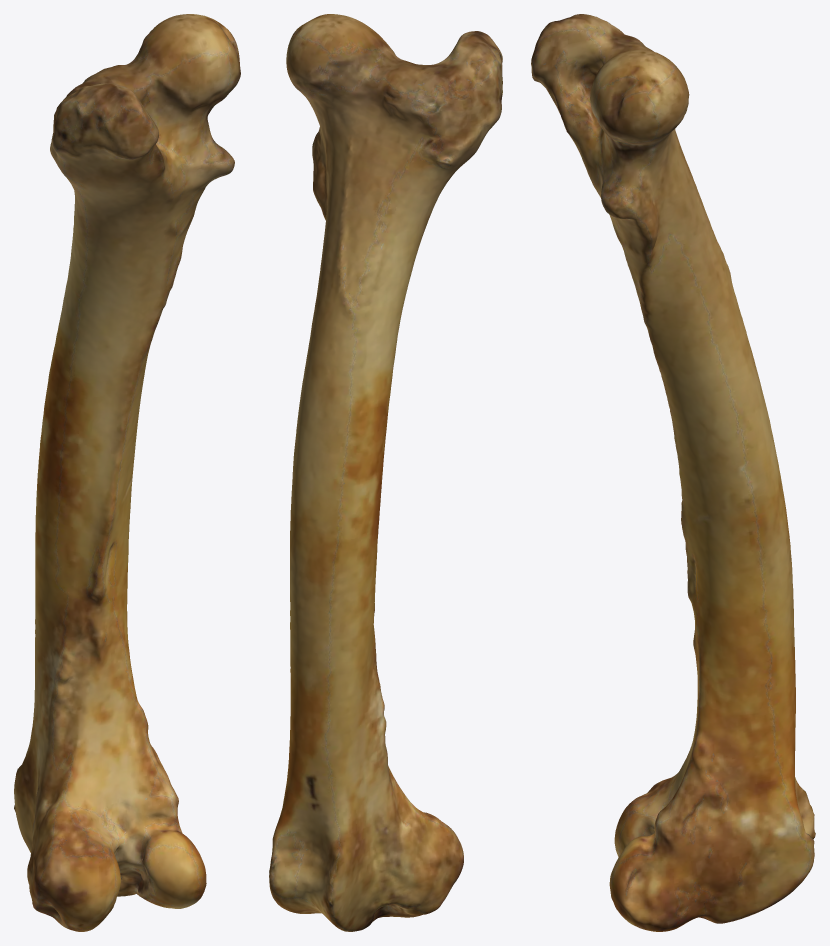
The model's file is femur.glb.
3 views of the same model, side by side, from view 1: azimuth 30°, elevation 25°; view 2: azimuth 150°, elevation 25°; view 3: azimuth 270°, elevation 25° (orthographic). The views are drawn at different scales.
Visible parts, largest first — view 1: Alpaca Left Femur; view 2: Alpaca Left Femur; view 3: Alpaca Left Femur.
Boxes of the visible parts, <box> form: Alpaca Left Femur: <box>14,14,240,931</box>; Alpaca Left Femur: <box>269,14,502,931</box>; Alpaca Left Femur: <box>531,14,815,931</box>.
Size of the model in its own units: 0.0607 by 0.2621 by 0.0767.
Materials: 1 (1 with a texture image).
